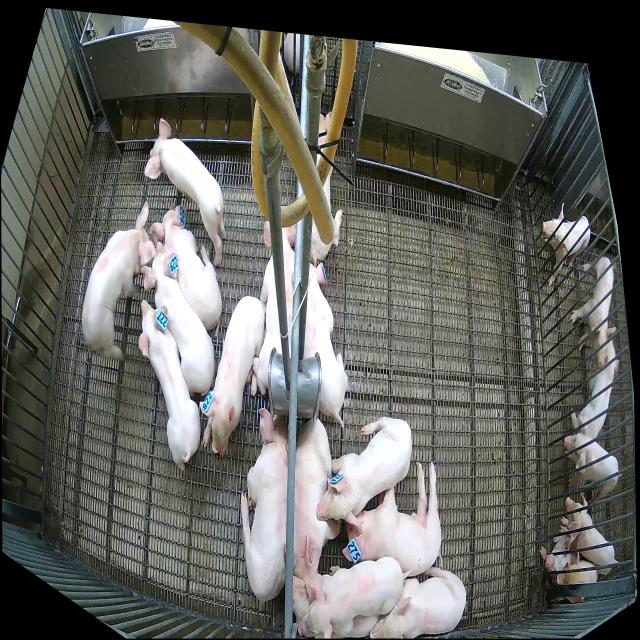pig: (144, 118, 226, 266), (82, 201, 156, 361), (343, 460, 443, 577), (141, 242, 214, 396), (200, 296, 266, 458), (316, 417, 412, 526), (139, 300, 200, 470), (150, 204, 221, 337), (240, 409, 288, 601), (295, 555, 403, 636), (294, 418, 340, 581), (253, 221, 296, 395), (304, 261, 348, 421), (370, 568, 466, 639), (292, 575, 382, 638), (310, 111, 342, 261)
